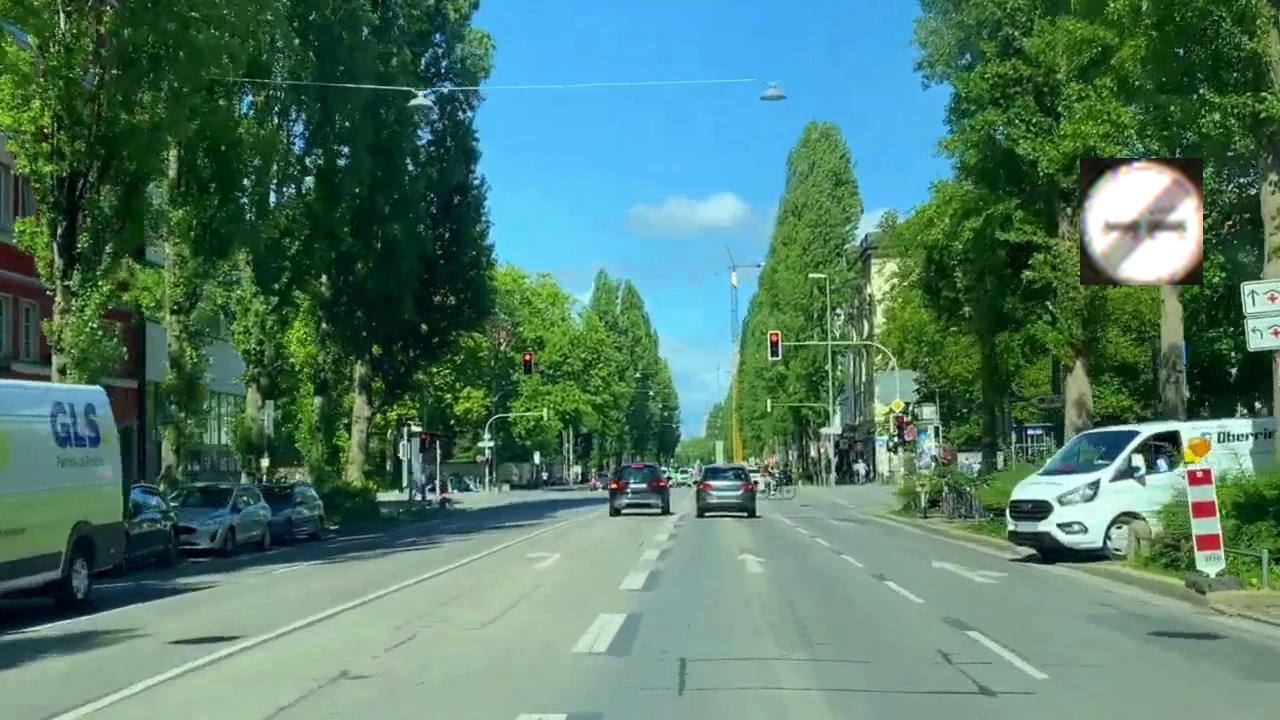End no pass: (1080, 158, 1203, 285)
